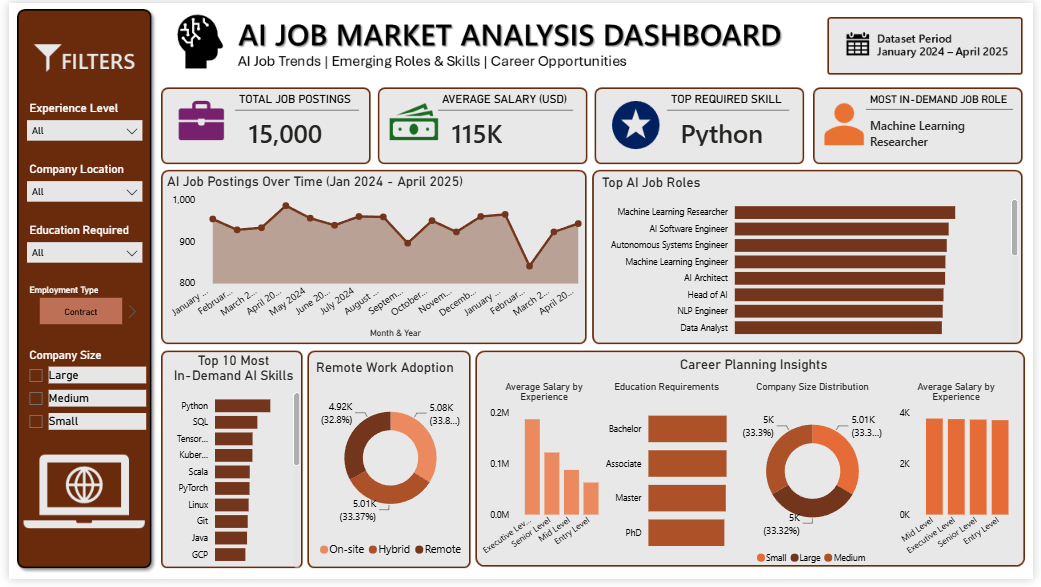

The page's visual inventory and layout, read from the dashboard file:
{"tool":"powerbi","page":{"name":"Page 1","canvas":[1280,720],"ordinal":0},"visuals":[{"type":"slicer","fields":{"Values":["AI Job Market.experience_level"]},"box":[12.5,118.8,163.8,76.2],"z":0},{"type":"slicer","fields":{"Values":["AI Job Market.company_size"]},"box":[12.5,427.5,163.8,125],"z":1000},{"type":"slicer","fields":{"Values":["AI Job Market.employment_type"]},"box":[12.5,347.5,152.5,61.2],"z":2000},{"type":"slicer","fields":{"Values":["AI Job Market.company_location"]},"box":[12.5,195,163.8,76.2],"z":3000},{"type":"slicer","fields":{"Values":["AI Job Market.education_required"]},"box":[12.5,271.2,163.8,76.2],"z":4000},{"type":"cardVisual","title":"TOTAL JOB POSTINGS","fields":{"Data":["CountNonNull(AI Job Market.job_title)"]},"box":[282.5,112.5,155,82.5],"z":5000},{"type":"cardVisual","title":"AVERAGE SALARY (USD)","fields":{"Data":["Avg(AI Job Market.salary_usd)"]},"box":[536.2,112.5,168.8,82.5],"z":6000},{"type":"cardVisual","title":"MOST IN-DEMAND JOB ROLE","fields":{"Data":["AI Job Market.Most In-Demand Job Role"]},"box":[1071.2,112.5,183.8,100],"z":7000},{"type":"cardVisual","title":"TOP REQUIRED SKILL","fields":{"Data":["top_skills.Top Required Skill"]},"box":[822.5,112.5,152.5,82.5],"z":8000},{"type":"lineChart","title":"AI Job Postings Over Time (Jan 2024 - April 2025)","fields":{"Y":["CountNonNull(AI Job Market.job_title)"],"Category":["AI Job Market.Month Year"]},"box":[192.5,212.5,536.2,211.2],"z":9000},{"type":"clusteredBarChart","title":"Top AI Job Roles","fields":{"Category":["AI Job Market.job_title"],"Y":["CountNonNull(AI Job Market.job_title)"]},"box":[736.2,213.8,530,213.8],"z":10000},{"type":"clusteredBarChart","title":"Top 10 Most In-Demand AI Skills","fields":{"Category":["top_skills.skill"],"Y":["Sum(top_skills.job_postings)"]},"box":[192.5,436.2,176.2,275],"z":11000},{"type":"donutChart","title":"Remote Work Adoption","fields":{"Category":["AI Job Market.remote_work_type"],"Y":["CountNonNull(AI Job Market.job_title)"]},"box":[378.8,445,196.2,257.5],"z":12000},{"type":"clusteredColumnChart","title":"Average Salary by Experience","fields":{"Category":["AI Job Market.experience_level"],"Y":["Avg(AI Job Market.salary_usd)"]},"box":[585,472.5,167.5,230],"z":13000},{"type":"clusteredBarChart","title":"Education Requirements","fields":{"Category":["AI Job Market.education_required"],"Y":["CountNonNull(AI Job Market.job_title)"]},"box":[736.2,472.5,171.2,230],"z":14000},{"type":"donutChart","title":"Company Size Distribution","fields":{"Category":["AI Job Market.company_size"],"Y":["CountNonNull(AI Job Market.job_title)"]},"box":[907.5,472.5,193.8,238.8],"z":15000},{"type":"clusteredColumnChart","title":"Average Salary by Experience","fields":{"Category":["AI Job Market.experience_level"],"Y":["CountNonNull(AI Job Market.job_title)"]},"box":[1101.2,472.5,165,230],"z":16000},{"type":"textbox","box":[833.8,436.2,206.2,36.2],"z":17000}]}

Visuals, with their boxes in screenshot pixels (x1, y1, x2, y2), scaled from the page's 1280x720 canvas onto the 1041x587 screenshot:
slicer - AI Job Market.experience_level: left=10, top=97, right=143, bottom=159
slicer - AI Job Market.company_size: left=10, top=349, right=143, bottom=450
slicer - AI Job Market.employment_type: left=10, top=283, right=134, bottom=333
slicer - AI Job Market.company_location: left=10, top=159, right=143, bottom=221
slicer - AI Job Market.education_required: left=10, top=221, right=143, bottom=283
"TOTAL JOB POSTINGS" cardVisual: left=230, top=92, right=356, bottom=159
"AVERAGE SALARY (USD)" cardVisual: left=436, top=92, right=573, bottom=159
"MOST IN-DEMAND JOB ROLE" cardVisual: left=871, top=92, right=1021, bottom=173
"TOP REQUIRED SKILL" cardVisual: left=669, top=92, right=793, bottom=159
"AI Job Postings Over Time (Jan 2024 - April 2025)" lineChart: left=157, top=173, right=593, bottom=345
"Top AI Job Roles" clusteredBarChart: left=599, top=174, right=1030, bottom=349
"Top 10 Most In-Demand AI Skills" clusteredBarChart: left=157, top=356, right=300, bottom=580
"Remote Work Adoption" donutChart: left=308, top=363, right=468, bottom=573
"Average Salary by Experience" clusteredColumnChart: left=476, top=385, right=612, bottom=573
"Education Requirements" clusteredBarChart: left=599, top=385, right=738, bottom=573
"Company Size Distribution" donutChart: left=738, top=385, right=896, bottom=580
"Average Salary by Experience" clusteredColumnChart: left=896, top=385, right=1030, bottom=573
textbox: left=678, top=356, right=846, bottom=385
